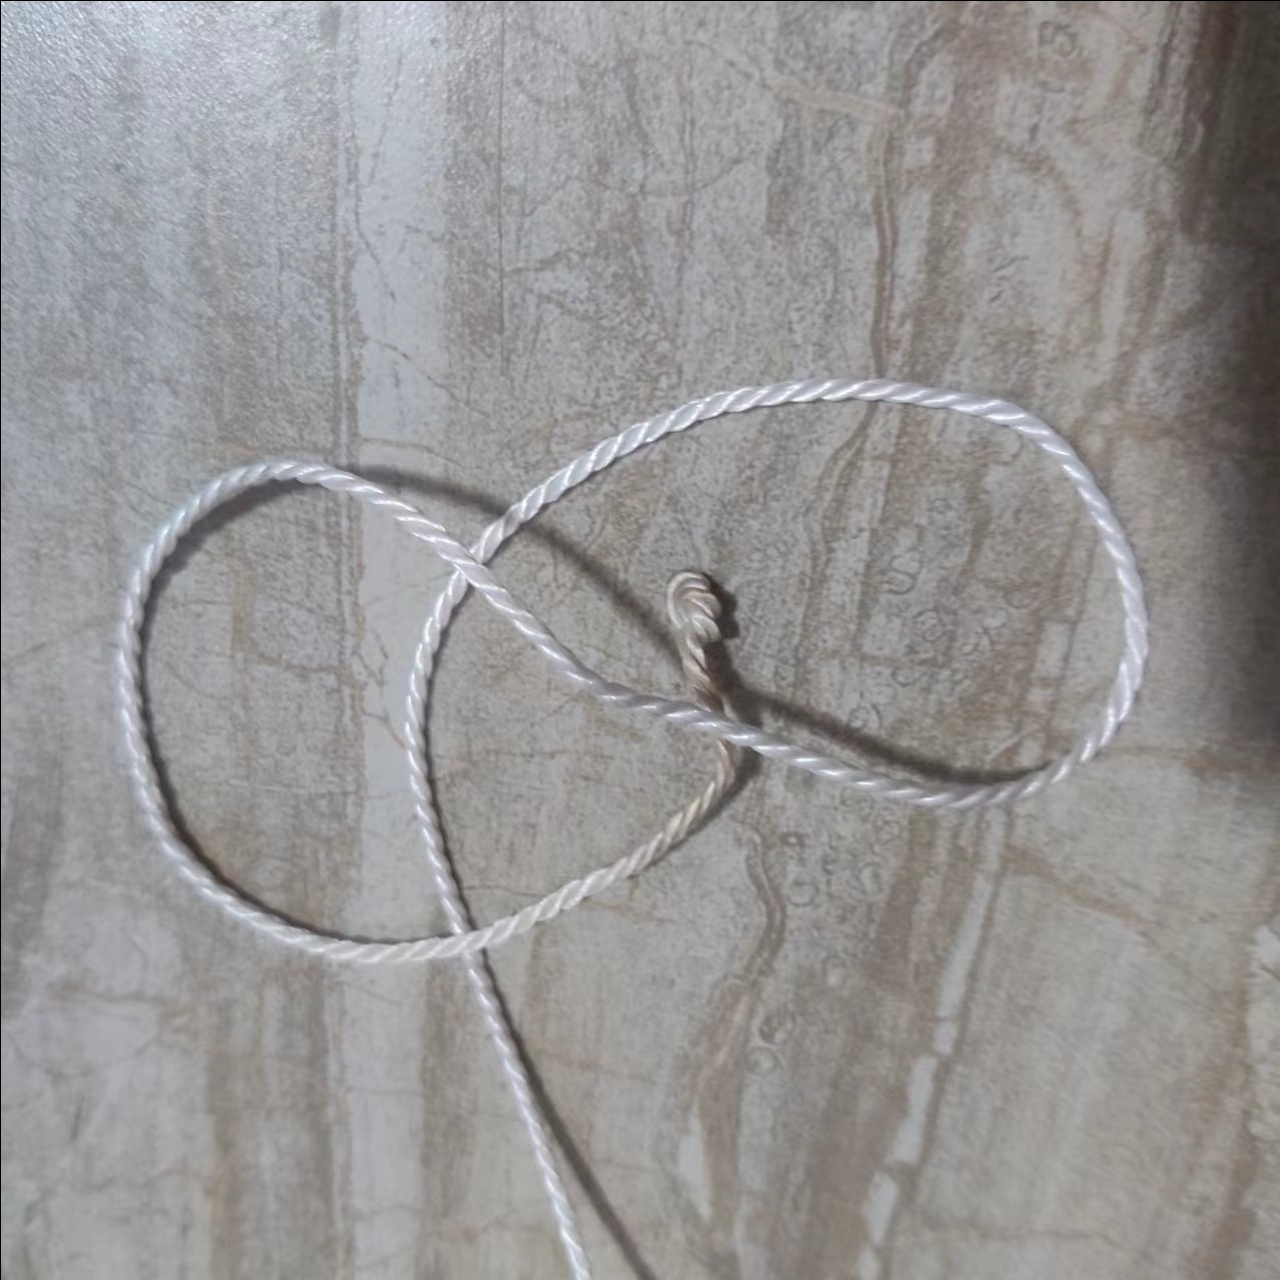9/可回收垃圾/绳子: (113, 379, 1148, 1280)
